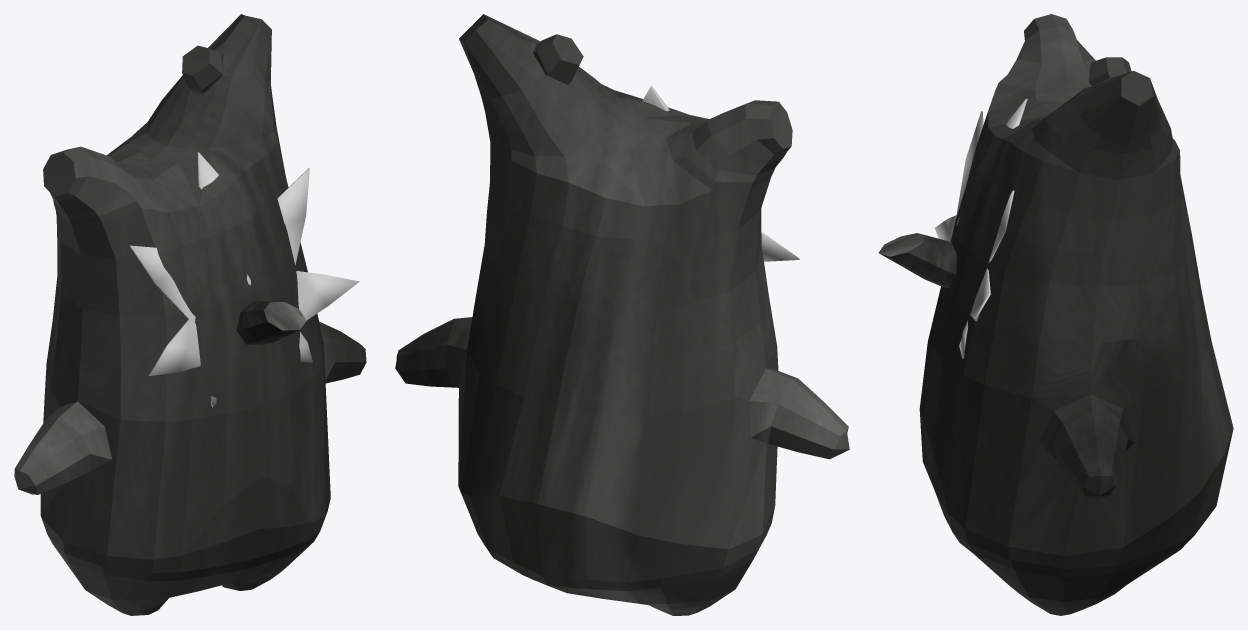
Rendered from frame_0024.obj.
3 renders of one model, left to right at view 1: azimuth 30°, elevation 25°; view 2: azimuth 150°, elevation 25°; view 3: azimuth 270°, elevation 25°, orthographic. The views are drawn at different scales.
Parts seen in each view (by area): view 1: korok, leaf, nose.003_柱体.011; view 2: korok, leaf; view 3: korok, nose.003_柱体.011, leaf.
Boxes of the visible parts, bbox=[...] form: korok: bbox=[14, 14, 366, 615]; leaf: bbox=[129, 152, 359, 407]; nose.003_柱体.011: bbox=[236, 301, 306, 345]; korok: bbox=[395, 14, 849, 615]; leaf: bbox=[642, 85, 799, 261]; korok: bbox=[919, 14, 1233, 615]; nose.003_柱体.011: bbox=[878, 233, 956, 287]; leaf: bbox=[935, 98, 1027, 358].
Size of the model in its own units: 1.7 by 2.29 by 1.32.
